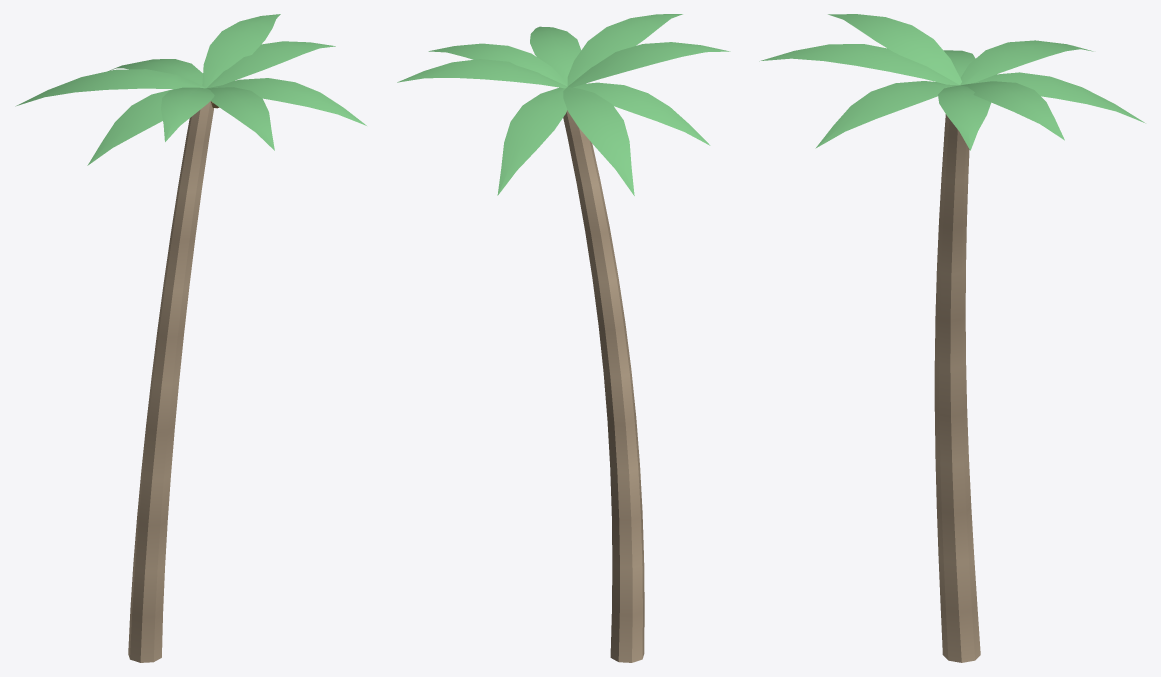
Rendered from palm_tree_a.glb.
3 renders of one model, left to right at view 1: azimuth 30°, elevation 25°; view 2: azimuth 150°, elevation 25°; view 3: azimuth 270°, elevation 25°, orthographic. The views are drawn at different scales.
Parts seen in each view (by area): view 1: trunk, fronds; view 2: fronds, trunk; view 3: fronds, trunk.
Boxes of the visible parts, left/top/right/bottom form: trunk: left=128, top=101, right=213, bottom=662; fronds: left=15, top=14, right=366, bottom=165; fronds: left=397, top=14, right=730, bottom=195; trunk: left=563, top=110, right=644, bottom=662; fronds: left=759, top=14, right=1145, bottom=150; trunk: left=934, top=114, right=980, bottom=662.
Bounding box in the file's own units: 3.53 × 7.33 × 4.09.
